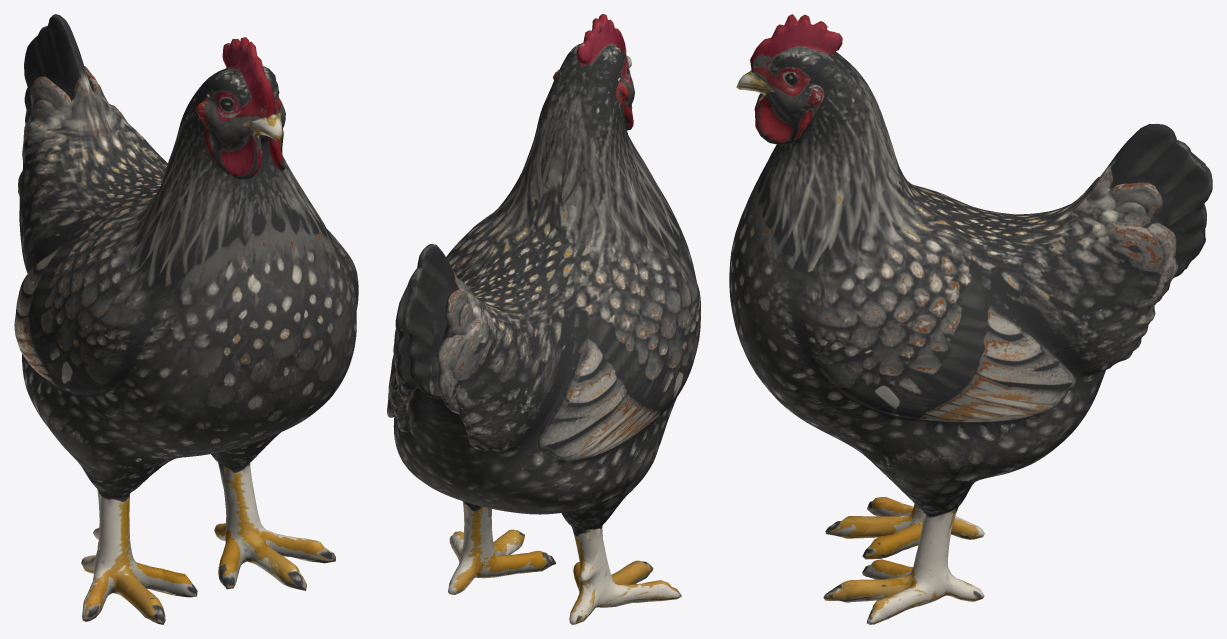
Rendered from gallina_bataraza.glb.
The picture shows the model from 3 angles, left to right: view 1: azimuth 30°, elevation 25°; view 2: azimuth 150°, elevation 25°; view 3: azimuth 270°, elevation 25°; orthographic projection. The views are drawn at different scales.
Parts seen in each view (by area): view 1: gallina_bataraza; view 2: gallina_bataraza; view 3: gallina_bataraza.
Boxes of the visible parts, box(x1,y1,x2,y2) form: gallina_bataraza: box(14, 14, 358, 624); gallina_bataraza: box(387, 14, 700, 624); gallina_bataraza: box(729, 14, 1212, 624).
Bounding box in the file's own units: 0.2024 × 0.42 × 0.3314.
Materials: 1 (1 with a texture image).
